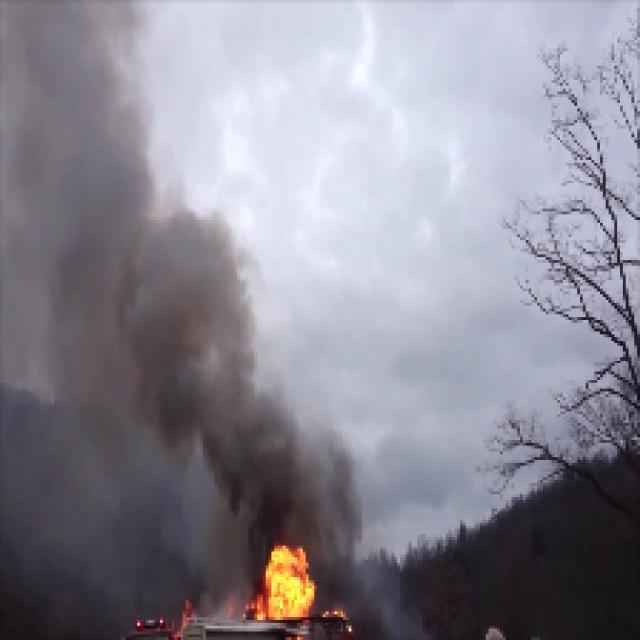fire: (252, 544, 321, 631)
smoke: (5, 0, 156, 473), (160, 208, 347, 519)
